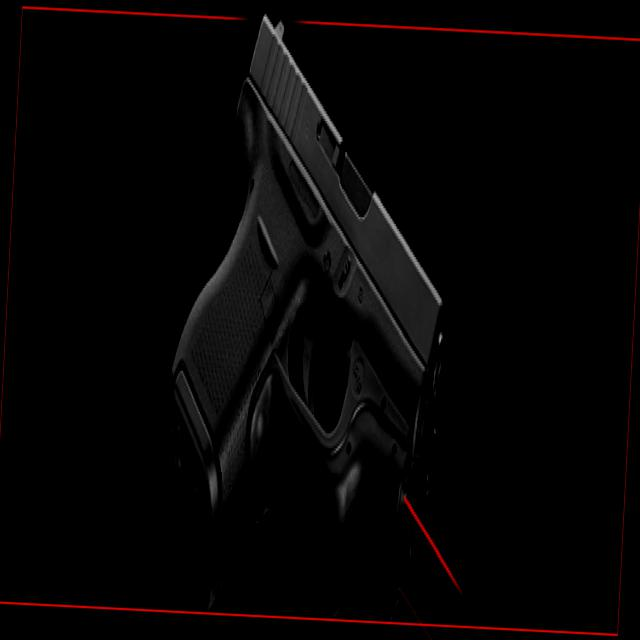handgun: (158, 25, 460, 555)
